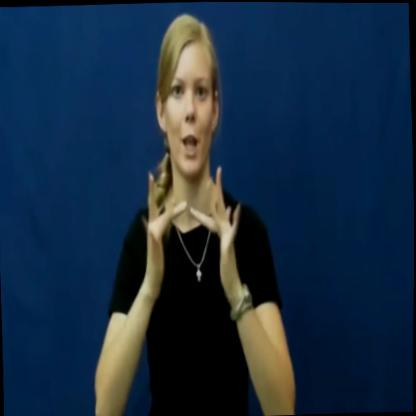Internet: (140, 157, 244, 318)
